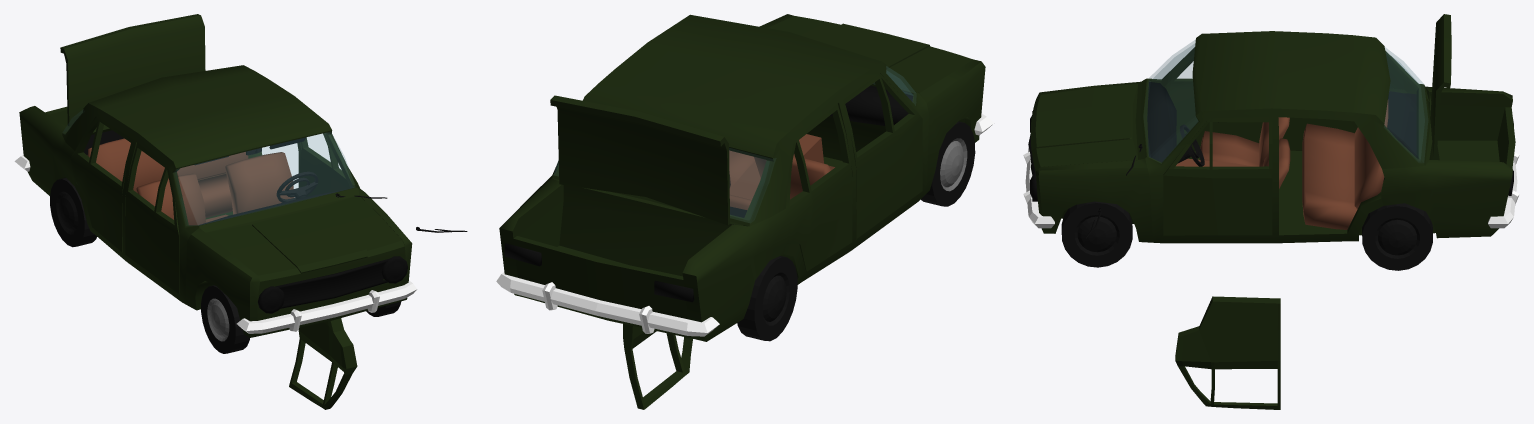
File: VAZ2101.FBX
The picture shows the model from 3 angles, left to right: view 1: azimuth 30°, elevation 25°; view 2: azimuth 150°, elevation 25°; view 3: azimuth 270°, elevation 25°; orthographic projection. The views are drawn at different scales.
Parts seen in each view (by area): view 1: VAZ_2101_Body_01, VAZ_2101_Window_01, VAZ_2101_Hood_01, VAZ_2101_Bagaj_01, VAZ_2101_door_forward_right_01, VAZ_2101_wing_forwrd_right_01, VAZ_2101_door_backward_right_01, VAZ_2101_wing_backwrd_right_01, VAZ_2101_door_backward_left_01, VAZ_2101_ram_forward_01, VAZ_2101_wheel_Forwd_right_01, VAZ_2101_wheel_Backwd_right_01 (+3 smaller); view 2: VAZ_2101_Body_01, VAZ_2101_Bagaj_01, VAZ_2101_wing_backwrd_right_01, VAZ_2101_door_forward_right_01, VAZ_2101_door_backward_right_01, VAZ_2101_Hood_01, VAZ_2101_Ram_backwd_01, VAZ_2101_wing_forwrd_right_01, VAZ_2101_wheel_Backwd_right_01, VAZ_2101_wheel_Forwd_right_01, VAZ_2101_Window_01, VAZ_2101_door_backward_left_01 (+1 smaller); view 3: VAZ_2101_Body_01, VAZ_2101_door_forward_left_01, VAZ_2101_Hood_01, VAZ_2101_door_backward_left_01, VAZ_2101_wing_backwrd_left_01, VAZ_2101_Window_01, VAZ_2101_wing_forwrd_left_01, VAZ_2101_wheel_Backwd_left_01, VAZ_2101_wheel_Forwd_left_01, VAZ_2101_door_forward_right_01, VAZ_2101_Bagaj_01, VAZ_2101_wing_backwrd_right_01 (+3 smaller).
Boxes of the visible parts, bbox=[...] form: VAZ_2101_Body_01: bbox=[45, 65, 407, 336]; VAZ_2101_Window_01: bbox=[63, 110, 354, 225]; VAZ_2101_Hood_01: bbox=[206, 195, 404, 281]; VAZ_2101_Bagaj_01: bbox=[60, 14, 205, 126]; VAZ_2101_door_forward_right_01: bbox=[125, 142, 179, 293]; VAZ_2101_wing_forwrd_right_01: bbox=[185, 228, 259, 337]; VAZ_2101_door_backward_right_01: bbox=[70, 117, 132, 251]; VAZ_2101_wing_backwrd_right_01: bbox=[19, 106, 74, 195]; VAZ_2101_door_backward_left_01: bbox=[289, 318, 357, 409]; VAZ_2101_ram_forward_01: bbox=[236, 280, 416, 333]; VAZ_2101_wheel_Forwd_right_01: bbox=[201, 285, 249, 353]; VAZ_2101_wheel_Backwd_right_01: bbox=[50, 177, 96, 247]; VAZ_2101_Body_01: bbox=[504, 14, 964, 339]; VAZ_2101_Bagaj_01: bbox=[550, 95, 730, 225]; VAZ_2101_wing_backwrd_right_01: bbox=[682, 209, 788, 341]; VAZ_2101_door_forward_right_01: bbox=[843, 73, 922, 238]; VAZ_2101_door_backward_right_01: bbox=[786, 103, 852, 271]; VAZ_2101_Hood_01: bbox=[767, 16, 973, 92]; VAZ_2101_Ram_backwd_01: bbox=[496, 272, 719, 336]; VAZ_2101_wing_forwrd_right_01: bbox=[919, 59, 985, 196]; VAZ_2101_wheel_Backwd_right_01: bbox=[737, 256, 797, 341]; VAZ_2101_wheel_Forwd_right_01: bbox=[921, 121, 975, 206]; VAZ_2101_Window_01: bbox=[554, 66, 915, 220]; VAZ_2101_door_backward_left_01: bbox=[623, 324, 692, 409]; VAZ_2101_Body_01: bbox=[1028, 31, 1515, 243]; VAZ_2101_door_forward_left_01: bbox=[1163, 117, 1272, 235]; VAZ_2101_Hood_01: bbox=[1030, 83, 1137, 170]; VAZ_2101_door_backward_left_01: bbox=[1175, 296, 1280, 409]; VAZ_2101_wing_backwrd_left_01: bbox=[1381, 160, 1512, 238]; VAZ_2101_Window_01: bbox=[1146, 40, 1424, 162]; VAZ_2101_wing_forwrd_left_01: bbox=[1036, 158, 1154, 242]; VAZ_2101_wheel_Backwd_left_01: bbox=[1362, 203, 1432, 270]; VAZ_2101_wheel_Forwd_left_01: bbox=[1061, 201, 1132, 267]; VAZ_2101_door_forward_right_01: bbox=[1164, 57, 1262, 149]; VAZ_2101_Bagaj_01: bbox=[1430, 14, 1451, 157]; VAZ_2101_wing_backwrd_right_01: bbox=[1425, 86, 1512, 107].
Size of the model in its own units: 242 by 404 by 291.
